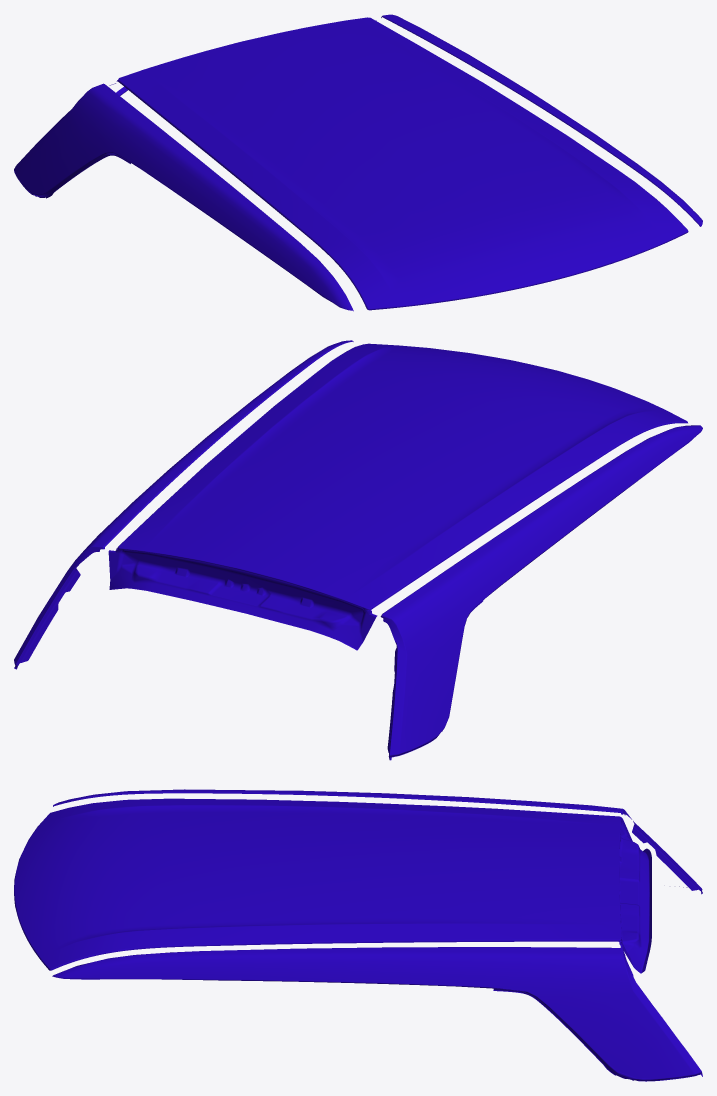
The model's file is TOYOTA_URBAN_CRUISER_HIG_MID_EX_CARBODY_DUAL_TONE_MESH.glb.
3 renders of one model, top to bottom at view 1: azimuth 30°, elevation 25°; view 2: azimuth 150°, elevation 25°; view 3: azimuth 270°, elevation 25°, orthographic.
Parts seen in each view (by area): view 1: TOYOTA_URBAN_CRUISER_HIG_MID_EX_CARBODY_DUAL_TONE_MESH; view 2: TOYOTA_URBAN_CRUISER_HIG_MID_EX_CARBODY_DUAL_TONE_MESH; view 3: TOYOTA_URBAN_CRUISER_HIG_MID_EX_CARBODY_DUAL_TONE_MESH.
Boxes of the visible parts, x1,y1,x2,y2 form: TOYOTA_URBAN_CRUISER_HIG_MID_EX_CARBODY_DUAL_TONE_MESH: (14, 14, 702, 311); TOYOTA_URBAN_CRUISER_HIG_MID_EX_CARBODY_DUAL_TONE_MESH: (14, 340, 702, 760); TOYOTA_URBAN_CRUISER_HIG_MID_EX_CARBODY_DUAL_TONE_MESH: (14, 789, 702, 1081).
Size of the model in its own units: 1.38 by 0.4039 by 2.03.
